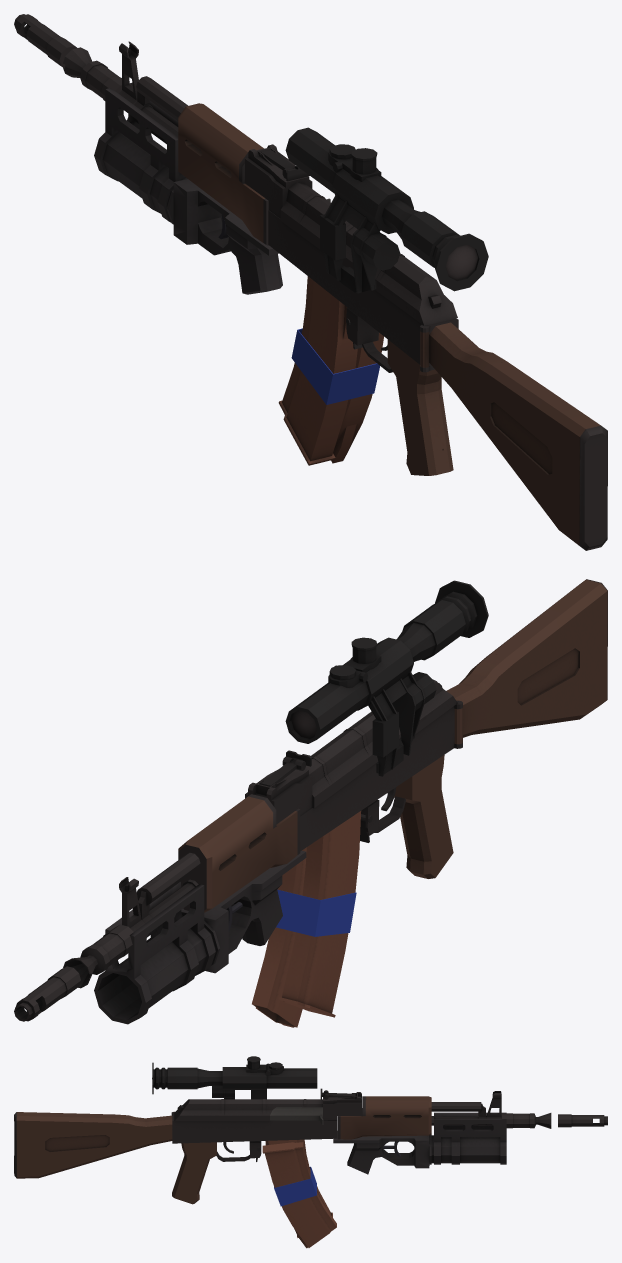
The model's file is AK_Rifle.fbx.
3 views of the same model, one above another, from view 1: azimuth 30°, elevation 25°; view 2: azimuth 150°, elevation 25°; view 3: azimuth 270°, elevation 25° (orthographic). The views are drawn at different scales.
Visible parts, largest first — view 1: Stock_full, PSO, Body, GP25_Standard, Magazine_Standard_Bakelite, Handguard_Standard, Grip, Magazine_Duel_Tape_Plum, Barrel_Para, Magazine_Standard_Duel_Plum, Muzzle_Brake_Para, Muzzle_Brake; view 2: Stock_full, PSO, GP25_Standard, Body, Handguard_Standard, Magazine_Standard_Bakelite, Grip, Magazine_Standard_Duel_Plum, Barrel_Para, Magazine_Duel_Tape_Plum, Muzzle_Brake_Para, Muzzle_Brake (+1 smaller); view 3: Stock_full, Body, GP25_Standard, PSO, Handguard_Standard, Magazine_Standard_Duel_Plum, Grip, Barrel_Para, Magazine_Duel_Tape_Plum, Bolt, Muzzle_Brake_Para, Muzzle_Brake (+1 smaller).
Boxes of the visible parts, x1,y1,x2,y2 form: Stock_full: (420,322,607,550); PSO: (285,127,488,293); Body: (245,144,458,372); GP25_Standard: (94,83,282,294); Magazine_Standard_Bakelite: (278,276,357,465); Handguard_Standard: (178,103,268,245); Grip: (387,339,453,475); Magazine_Duel_Tape_Plum: (291,328,379,404); Barrel_Para: (118,41,188,136); Magazine_Standard_Duel_Plum: (331,332,383,463); Muzzle_Brake_Para: (63,47,132,100); Muzzle_Brake: (14,14,76,67); Stock_full: (446,579,607,744); PSO: (285,580,488,776); GP25_Standard: (94,850,306,1024); Body: (245,679,462,851); Handguard_Standard: (178,794,300,912); Magazine_Standard_Bakelite: (278,811,361,1017); Grip: (387,755,453,878); Magazine_Standard_Duel_Plum: (252,847,306,1027); Barrel_Para: (119,853,200,931); Magazine_Duel_Tape_Plum: (276,889,356,936); Muzzle_Brake_Para: (63,924,133,988); Muzzle_Brake: (14,966,80,1021); Stock_full: (14,1112,172,1178); Body: (171,1092,361,1161); GP25_Standard: (333,1112,506,1174); PSO: (152,1056,317,1099); Handguard_Standard: (337,1096,431,1139); Magazine_Standard_Duel_Plum: (262,1142,336,1248); Grip: (172,1142,216,1204); Barrel_Para: (431,1091,501,1125); Magazine_Duel_Tape_Plum: (274,1166,316,1206); Bolt: (270,1107,323,1124); Muzzle_Brake_Para: (502,1113,551,1128); Muzzle_Brake: (558,1114,607,1127).
Size of the model in its own units: 6.02 by 28.91 by 85.55.
